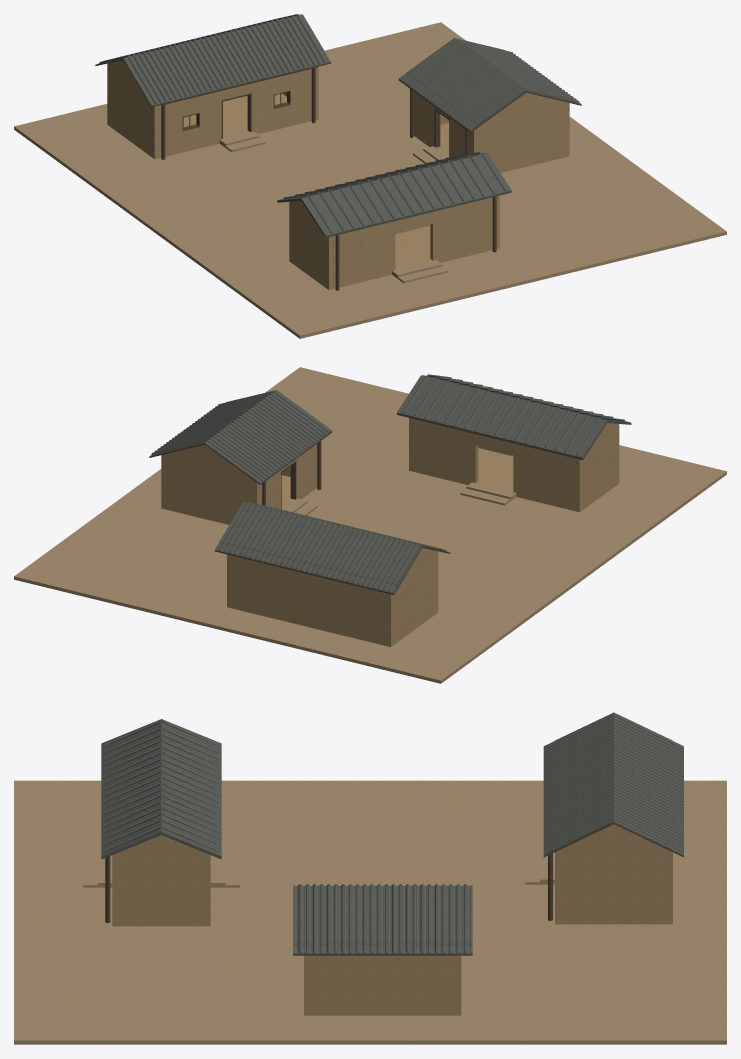
Rendered from z09-civic-A-LOD1.glb.
3 renders of one model, top to bottom at view 1: azimuth 30°, elevation 25°; view 2: azimuth 150°, elevation 25°; view 3: azimuth 270°, elevation 25°, orthographic. The views are drawn at different scales.
Parts seen in each view (by area): view 1: Z09_batched_Z09_NEW_court_and_steps, Z09_batched_LY_P01_earth__PBR, Z09_batched_LY_P01_tile__PBR, Z09_batched_LY_P01_timber__PBR; view 2: Z09_batched_Z09_NEW_court_and_steps, Z09_batched_LY_P01_earth__PBR, Z09_batched_LY_P01_tile__PBR, Z09_batched_LY_P01_timber__PBR; view 3: Z09_batched_Z09_NEW_court_and_steps, Z09_batched_LY_P01_tile__PBR, Z09_batched_LY_P01_earth__PBR, Z09_batched_LY_P01_timber__PBR.
Part boxes in pixels (x1,y1,x2,y2): Z09_batched_Z09_NEW_court_and_steps: (14, 22, 726, 338); Z09_batched_LY_P01_earth__PBR: (107, 60, 569, 289); Z09_batched_LY_P01_tile__PBR: (95, 14, 581, 237); Z09_batched_LY_P01_timber__PBR: (95, 58, 581, 290); Z09_batched_Z09_NEW_court_and_steps: (14, 367, 726, 683); Z09_batched_LY_P01_earth__PBR: (161, 418, 619, 646); Z09_batched_LY_P01_tile__PBR: (149, 374, 631, 593); Z09_batched_LY_P01_timber__PBR: (149, 431, 450, 594); Z09_batched_Z09_NEW_court_and_steps: (14, 780, 726, 1044); Z09_batched_LY_P01_tile__PBR: (101, 712, 683, 954); Z09_batched_LY_P01_earth__PBR: (112, 824, 672, 1015); Z09_batched_LY_P01_timber__PBR: (105, 822, 683, 955).
Bounding box in the file's own units: 25 × 5.07 × 29.
4 materials, 4 textured.
